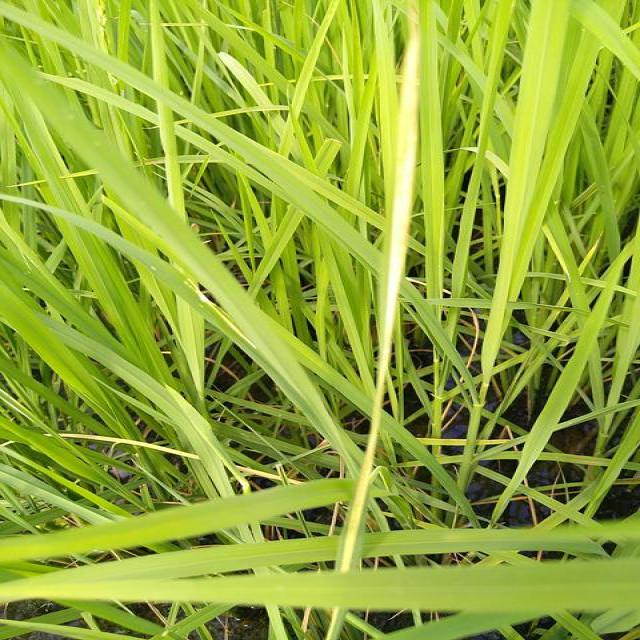Leaf Blight: (343, 19, 417, 574)
